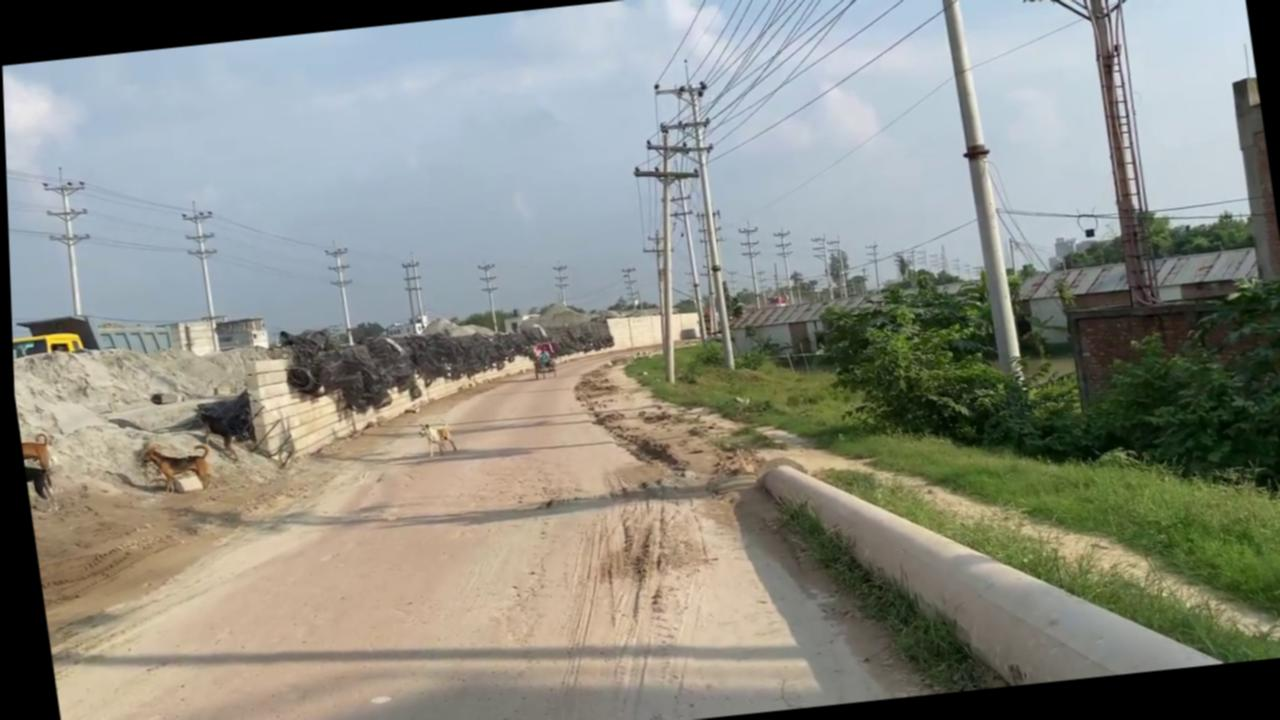Animal: (187, 386, 254, 460), (136, 435, 210, 496), (17, 430, 56, 514), (414, 418, 454, 456)
Fence: (236, 310, 622, 468)
Obstacle: (747, 415, 1220, 708)
Pole: (935, 0, 1023, 392), (670, 82, 749, 373), (1078, 0, 1151, 306), (629, 120, 694, 395)
Railroad-crossing: (527, 346, 555, 380)
Rickshaw: (593, 338, 791, 470)
Tree: (9, 293, 268, 375), (10, 328, 83, 359)
